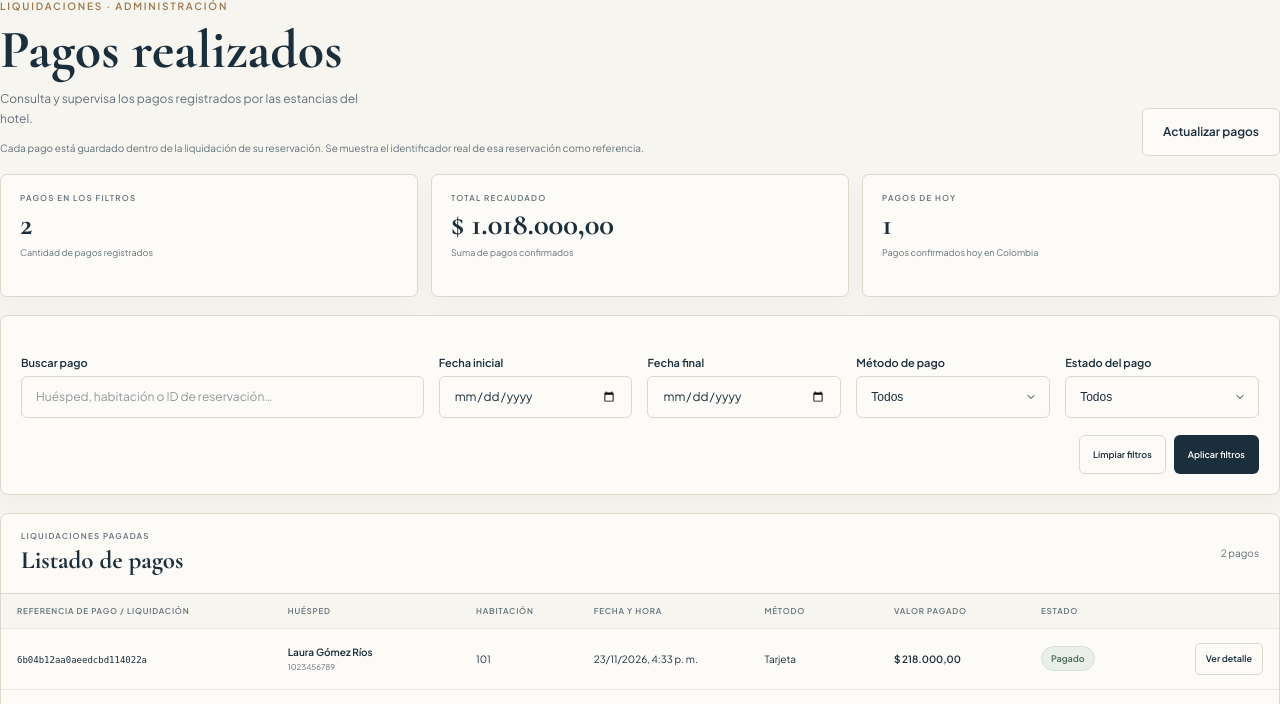
Scenario: PaymentsPage › cierra el detalle con el botón × y con la tecla Escape
The image size is (1280, 704).
expect the text "Laura Gómez Ríos" is shown: met, box [288,646,373,658]
Click the button "Ver detalle" in the row of "6b04b12aa0aeedcbd114022a" at (1229, 659), box [1195,643,1263,675]
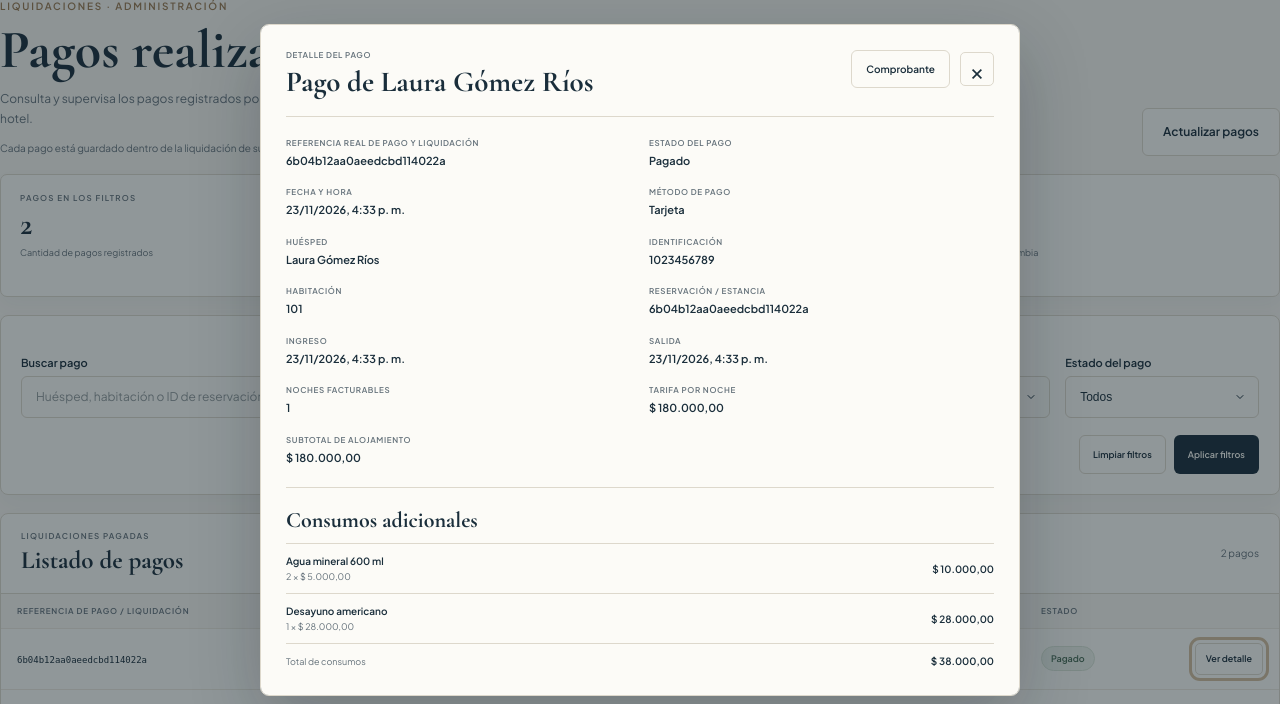
Click the button named "Cerrar detalle del pago" at (977, 69), box [960,52,994,86]
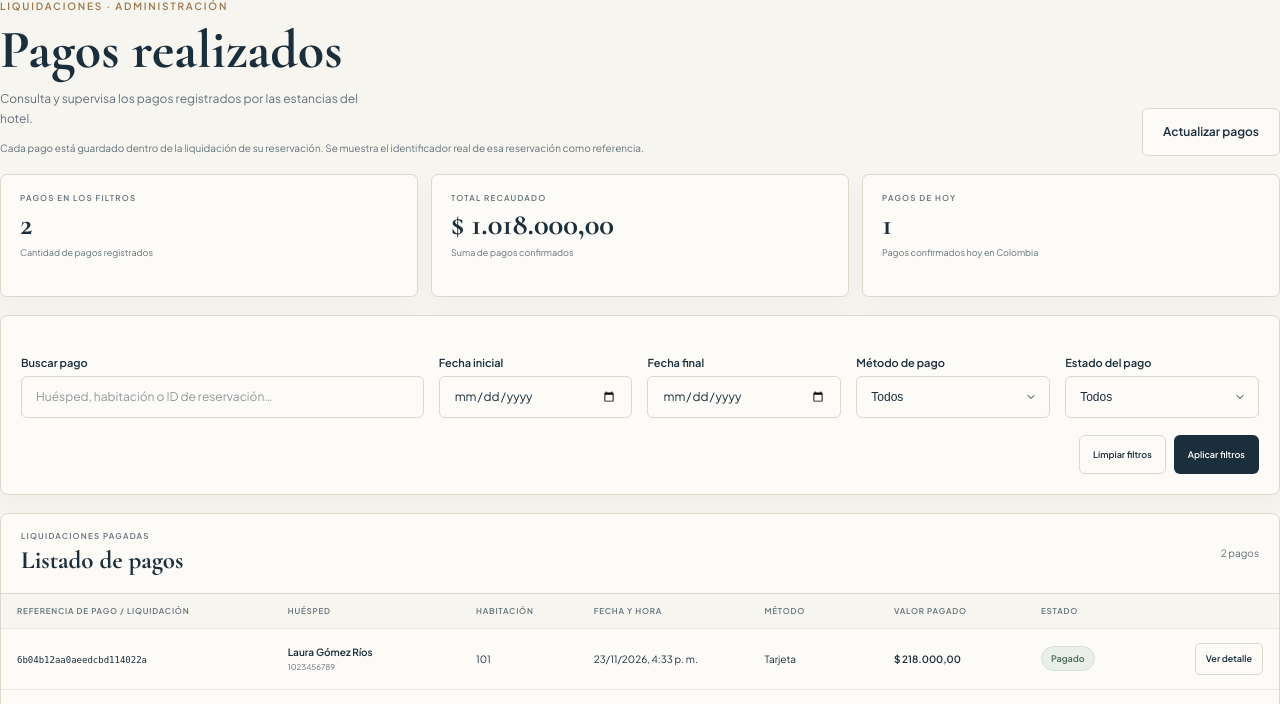
expect the dialog is gone: met
Click the button "Ver detalle" in the row of "6b04b12aa0aeedcbd114022a" at (1229, 659), box [1195,643,1263,675]
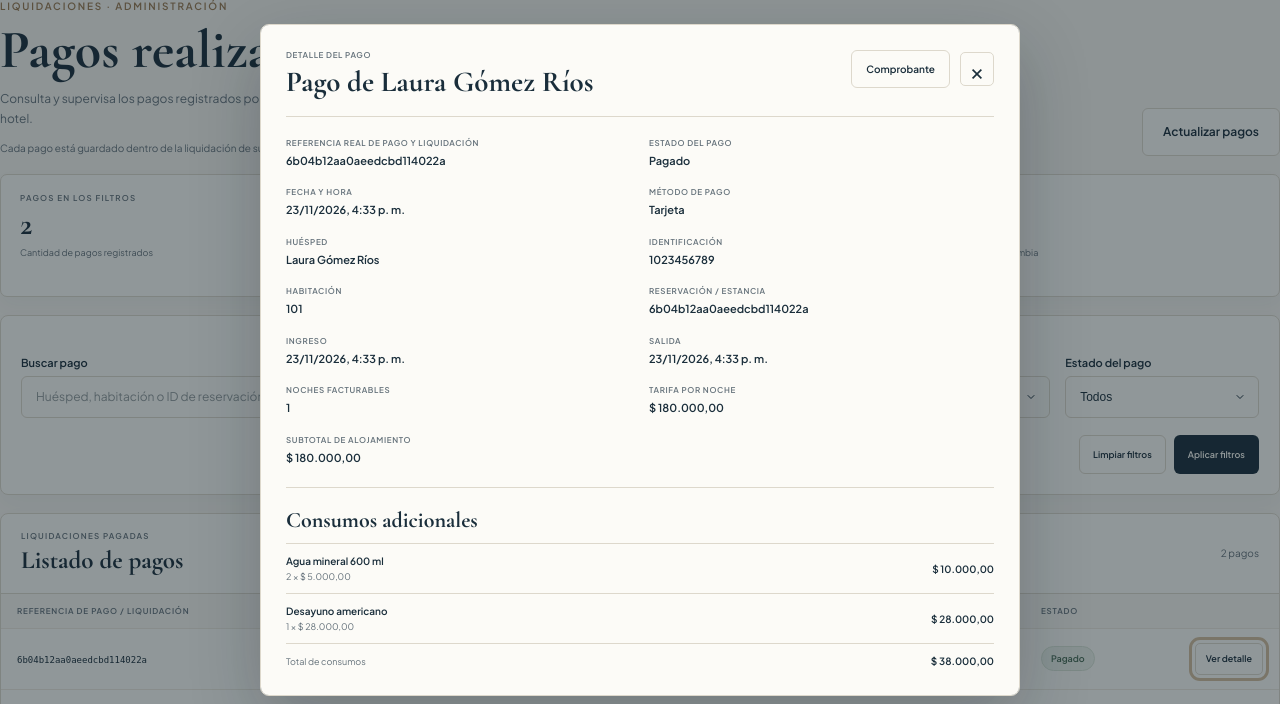
Press Escape
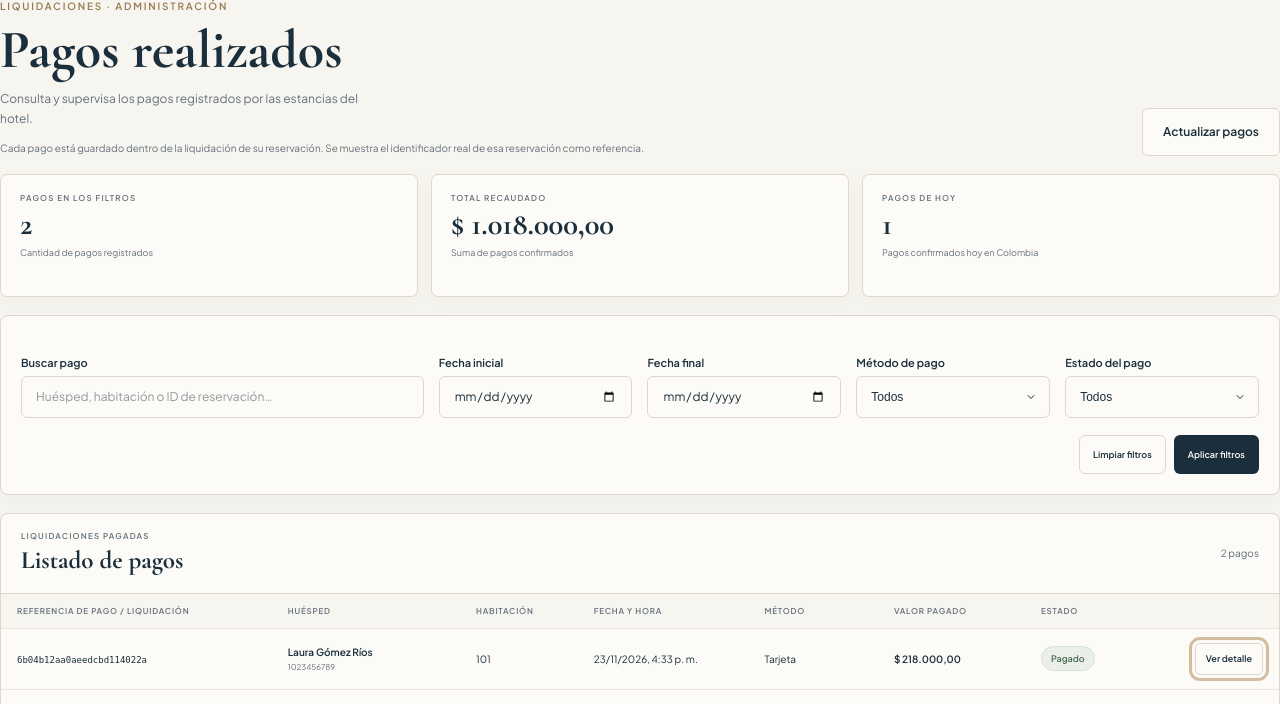
expect the dialog is gone: met
